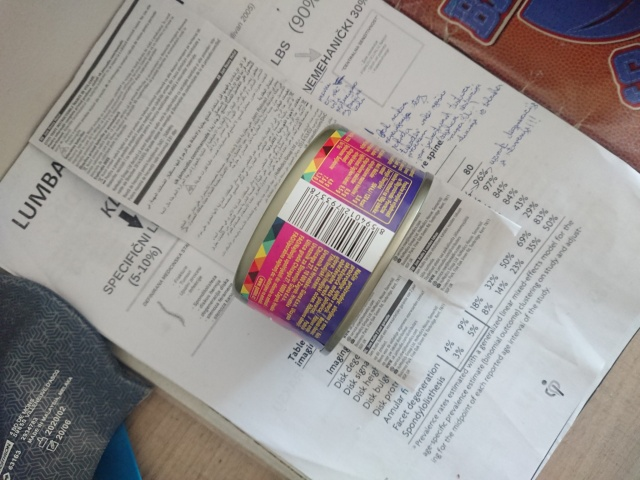Giana Tuna Salad Mexico 185g: (227, 121, 439, 357)
